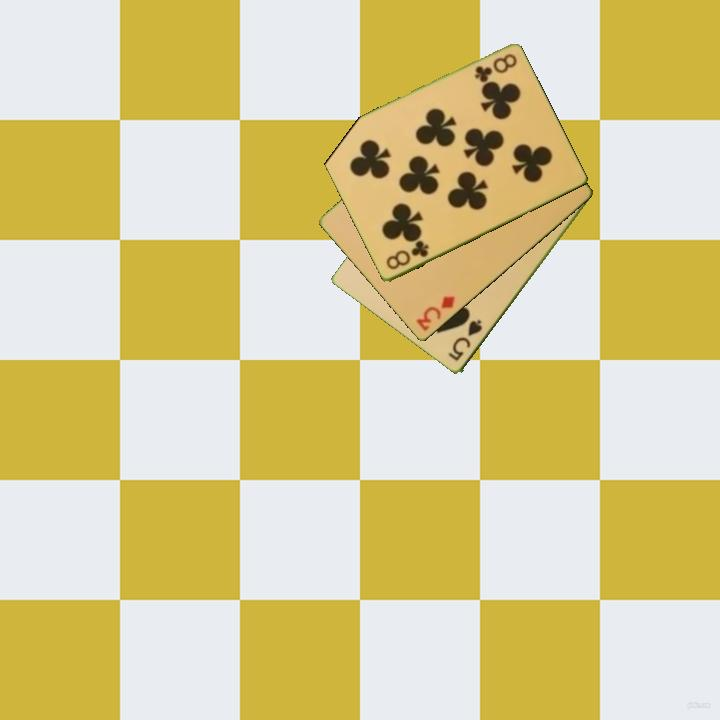3d: (413, 293, 458, 334)
5s: (445, 316, 485, 365)
8c: (382, 237, 432, 273), (471, 50, 520, 85)
